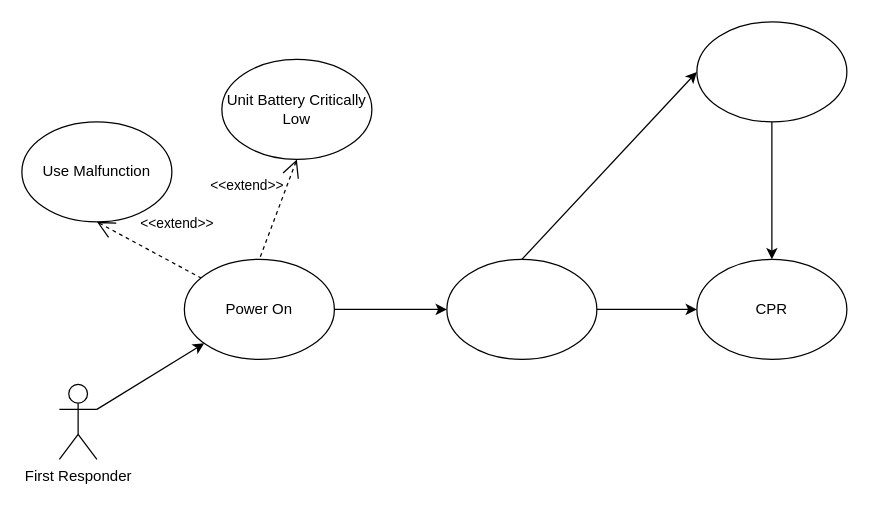
This 869x508 diagram has some shape labels left out. Each missing label, with the centre of its shape:
Pad Attachment: the point at 521,308
Shock: the point at 771,71
